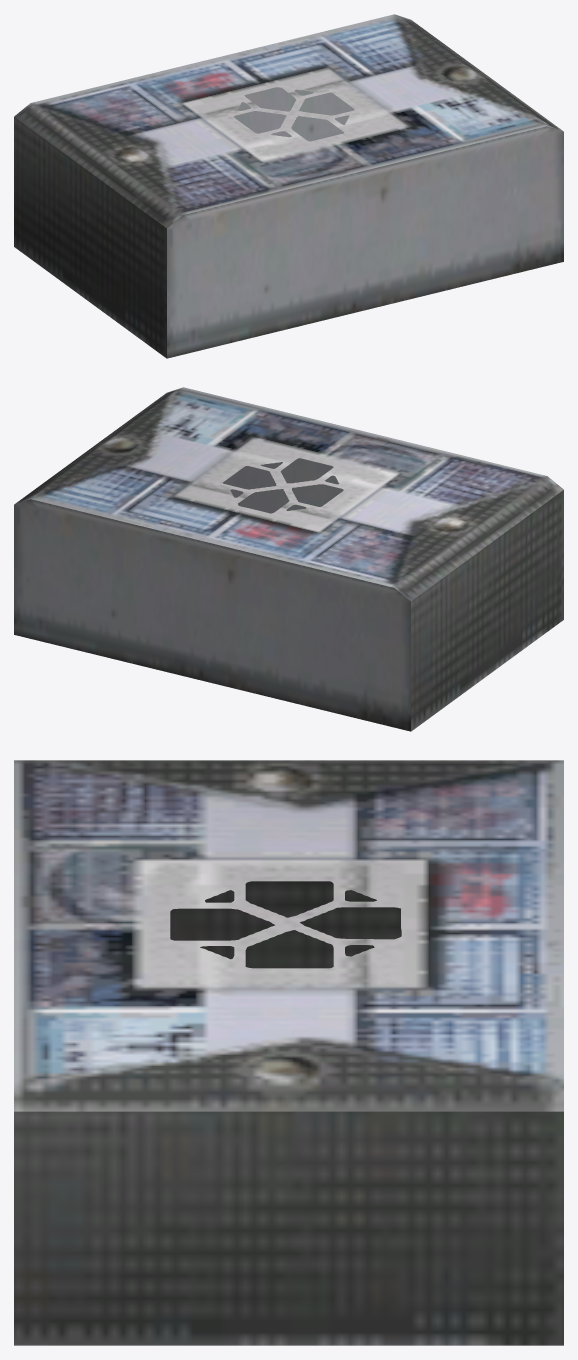
File: eqp_medic_medpack_sm_s1_l0.fbx
3 views of the same model, one above another, from view 1: azimuth 30°, elevation 25°; view 2: azimuth 150°, elevation 25°; view 3: azimuth 270°, elevation 25° (orthographic). The views are drawn at different scales.
Visible parts, largest first — view 1: mesh_node; view 2: mesh_node; view 3: mesh_node.
Part boxes in pixels (x1,y1,x2,y2): mesh_node: (14,14,563,358); mesh_node: (14,387,563,731); mesh_node: (14,760,563,1345).
Size of the model in its own units: 0.2859 by 0.0961 by 0.1906.
